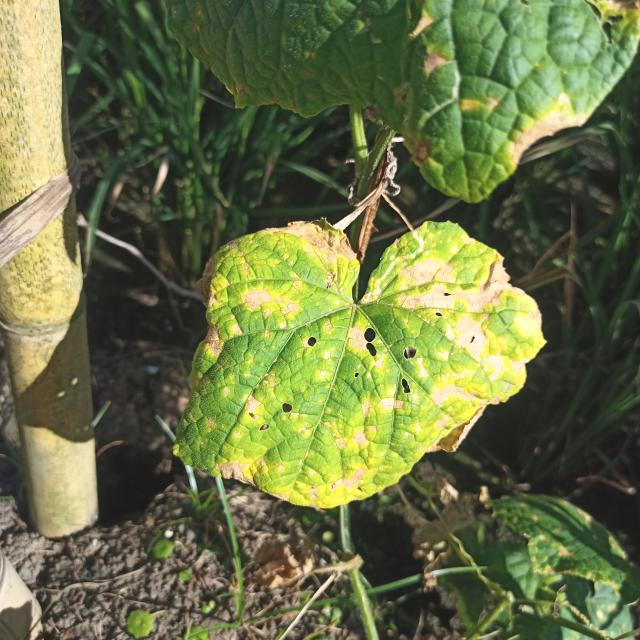disease_cucumber: (172, 221, 544, 497)
